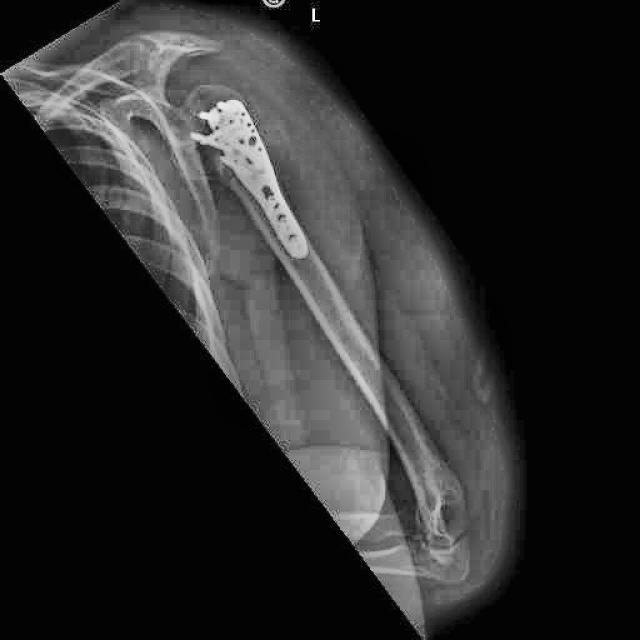humerus: (210, 166, 252, 203)
